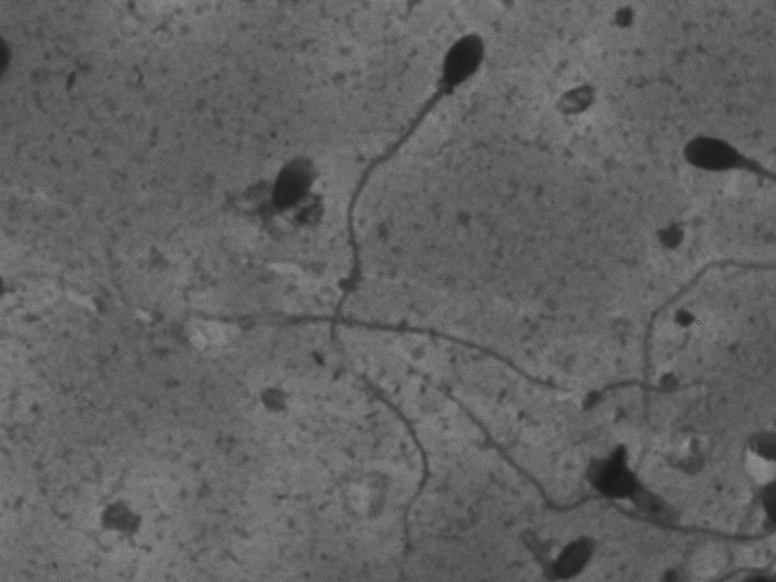Abnormal: (206, 129, 329, 246), (569, 425, 690, 532)
Normal: (309, 28, 499, 569)
